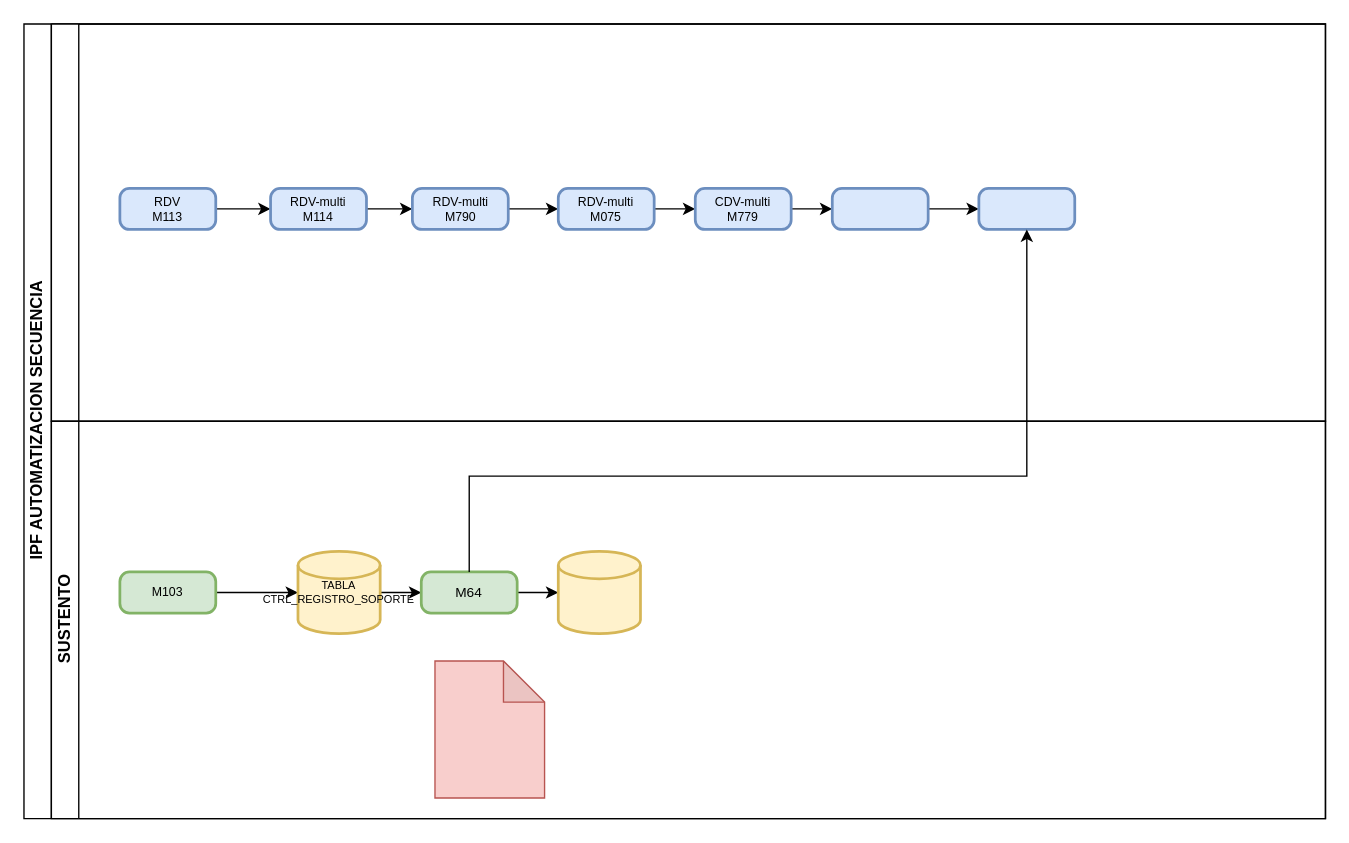
Image size: 1349x843. Some labels were removed from this diagram. The shapes that lost their labels are listed below. From the top down, each one's box as (x1, y1, x2, y2) in pixels, then its label:
(50, 23, 1325, 421): DATOS
(830, 186, 929, 230): CDV-multi M094
(977, 186, 1075, 230): BDV-multi M109
(556, 549, 641, 634): TABLA FACT_SOPORTE
(434, 660, 545, 798): task OB- no ejecutar
